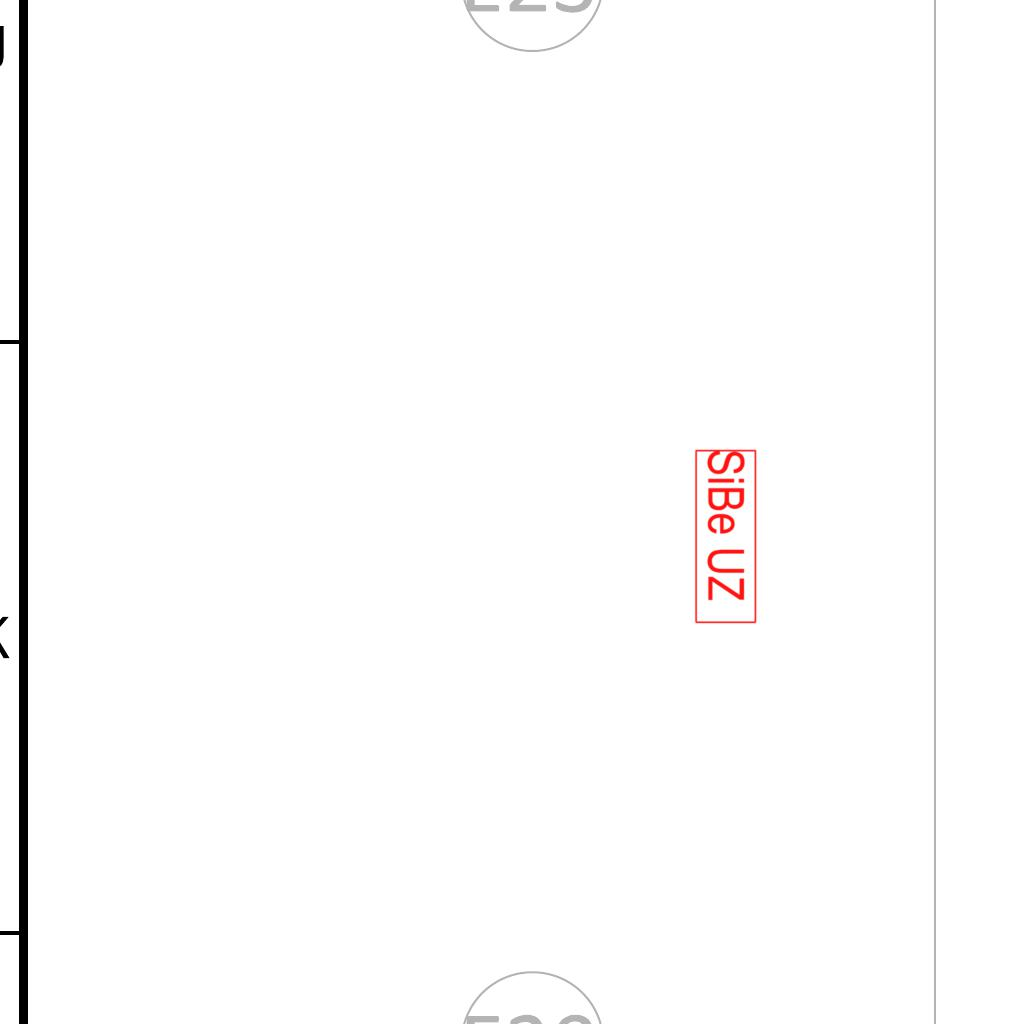Zentrale_Sicherheitsbeleuchtung: (693, 448, 758, 626)
